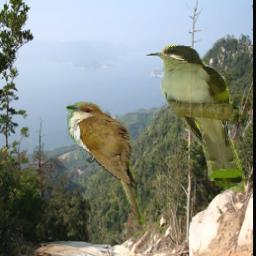Cuckoo: (146, 45, 247, 194), (66, 103, 145, 226)
